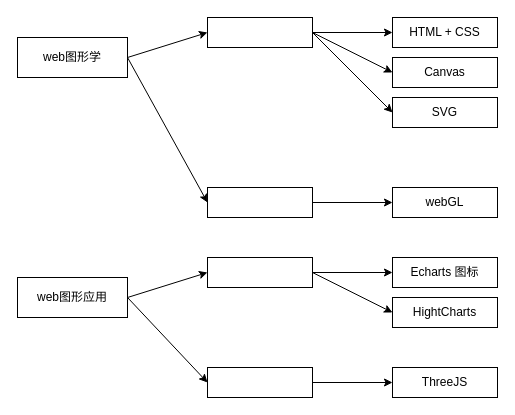
Image size: 515x415. Some labels were removed from this diagram. Each missing label, with the centre of its shape:
"2D图形" belongs at point 259,32.
"2D应用" belongs at point 259,272.
"3D图形" belongs at point 259,202.
"3D应用" belongs at point 259,382.
